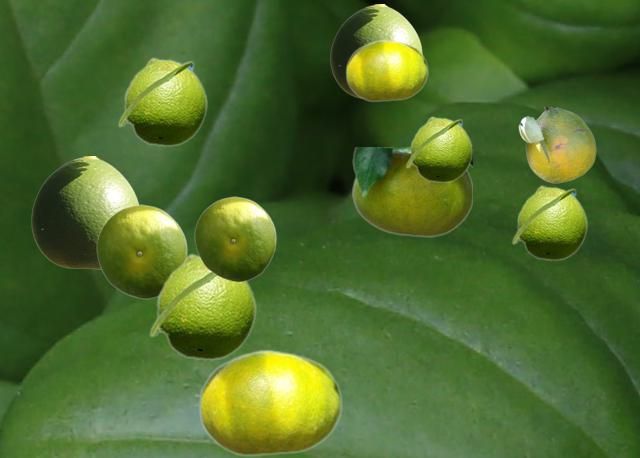dalandan: (198, 349, 341, 456), (31, 156, 139, 268), (148, 253, 256, 360), (352, 147, 471, 236), (330, 4, 421, 98), (96, 204, 186, 298), (117, 57, 207, 146), (194, 196, 275, 281), (518, 107, 595, 182), (511, 185, 587, 260), (345, 39, 427, 101), (405, 116, 472, 182)
